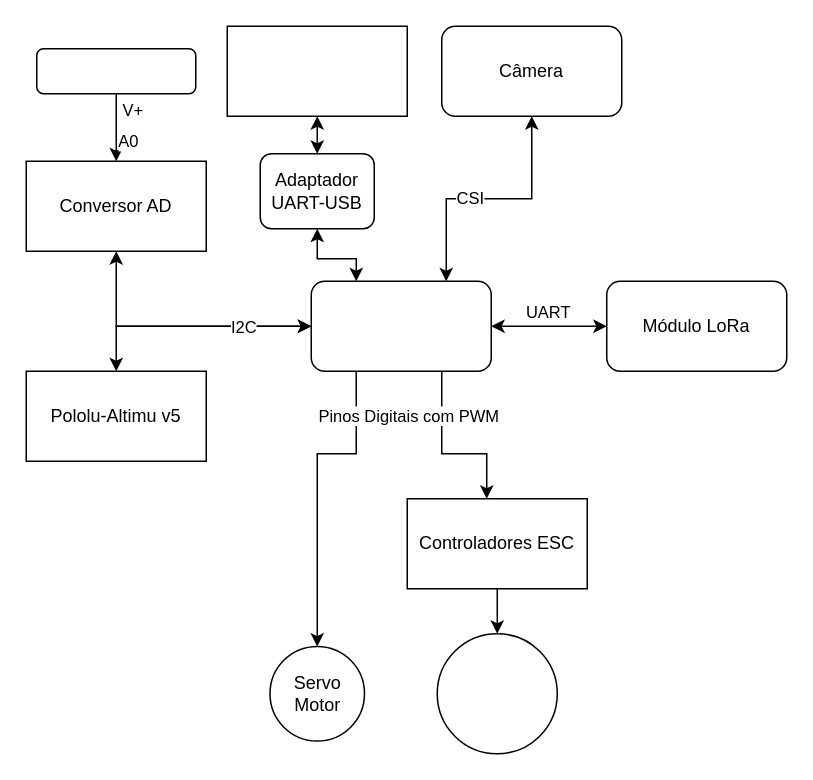
Image size: 813x780. Some labels were removed from this diagram. The shapes that lost their labels are listed below. From the top down, each one's centre as x and y in pixels, then its label:
At [115,70]: "Bateria".
At [316,70]: "Sensor Lidar".
At [400,325]: "Raspberry Pi 3B+".
At [496,693]: "Motores BLDC".
